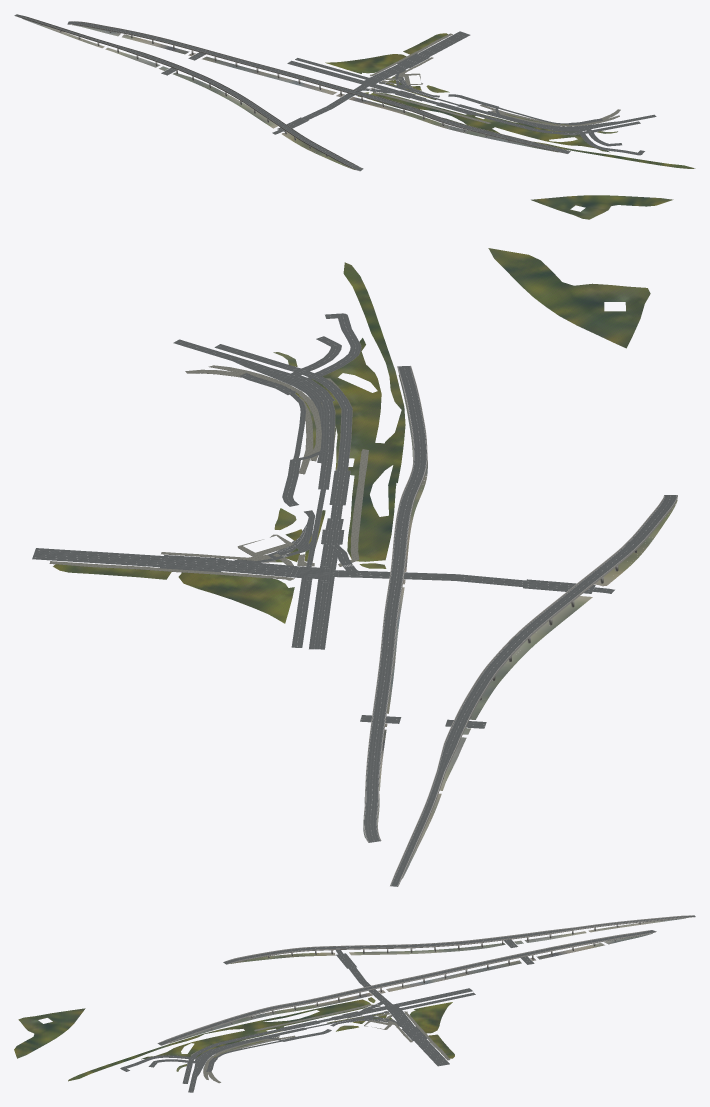
The picture shows the model from 3 angles, top to bottom: view 1: azimuth 30°, elevation 25°; view 2: azimuth 150°, elevation 25°; view 3: azimuth 270°, elevation 25°; orthographic projection. The views are drawn at different scales.
Parts seen in each view (by area): view 1: Planted road margins, Marina Centre asphalt, Flyover parapets, box girders and piers (flyovers), Marina Centre asphalt (flyovers), rochor undercroft, Paved approaches and stone kerbs, sheares undercroft; view 2: Planted road margins, Marina Centre asphalt, Marina Centre asphalt (flyovers), Paved approaches and stone kerbs, Flyover parapets, box girders and piers (flyovers), sheares undercroft, Marina Centre road paint (flyovers), rochor undercroft; view 3: Planted road margins, Marina Centre asphalt, Flyover parapets, box girders and piers (flyovers), Marina Centre asphalt (flyovers), rochor undercroft, sheares undercroft, Paved approaches and stone kerbs.
Part boxes in pixels (x1,y1,x2,y2): Planted road margins: (325, 33, 695, 219); Marina Centre asphalt: (277, 31, 656, 155); Flyover parapets, box girders and piers (flyovers): (14, 14, 569, 171); Marina Centre asphalt (flyovers): (15, 14, 570, 171); rochor undercroft: (72, 24, 558, 152); Paved approaches and stone kerbs: (370, 33, 620, 150); sheares undercroft: (22, 18, 354, 169); Planted road margins: (53, 248, 650, 623); Marina Centre asphalt: (32, 313, 595, 649); Marina Centre asphalt (flyovers): (360, 366, 677, 886); Paved approaches and stone kerbs: (49, 341, 368, 580); Flyover parapets, box girders and piers (flyovers): (363, 366, 677, 886); sheares undercroft: (402, 500, 677, 878); Marina Centre road paint (flyovers): (361, 366, 676, 885); rochor undercroft: (363, 375, 427, 838); Planted road margins: (14, 997, 454, 1081); Marina Centre asphalt: (120, 953, 475, 1092); Flyover parapets, box girders and piers (flyovers): (159, 915, 694, 1045); Marina Centre asphalt (flyovers): (158, 915, 695, 1045); rochor undercroft: (169, 933, 652, 1043); sheares undercroft: (230, 918, 685, 963); Paved approaches and stone kerbs: (154, 1004, 450, 1083).
Bounding box in the file's own units: 491 × 9.07 × 798.
7 materials, 5 textured.
